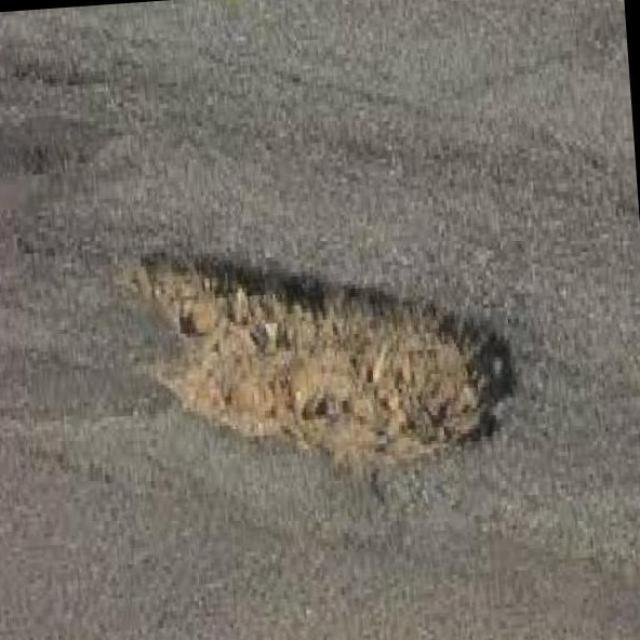Lubang: (136, 249, 496, 471)
